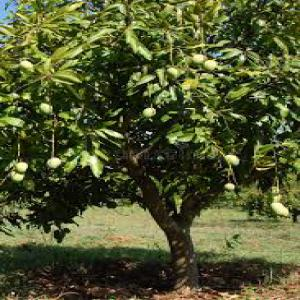Tree: (0, 1, 295, 291)
